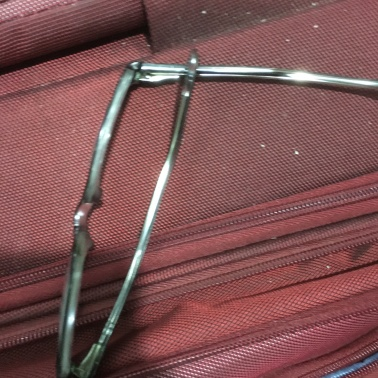glasses: (64, 48, 162, 367)
